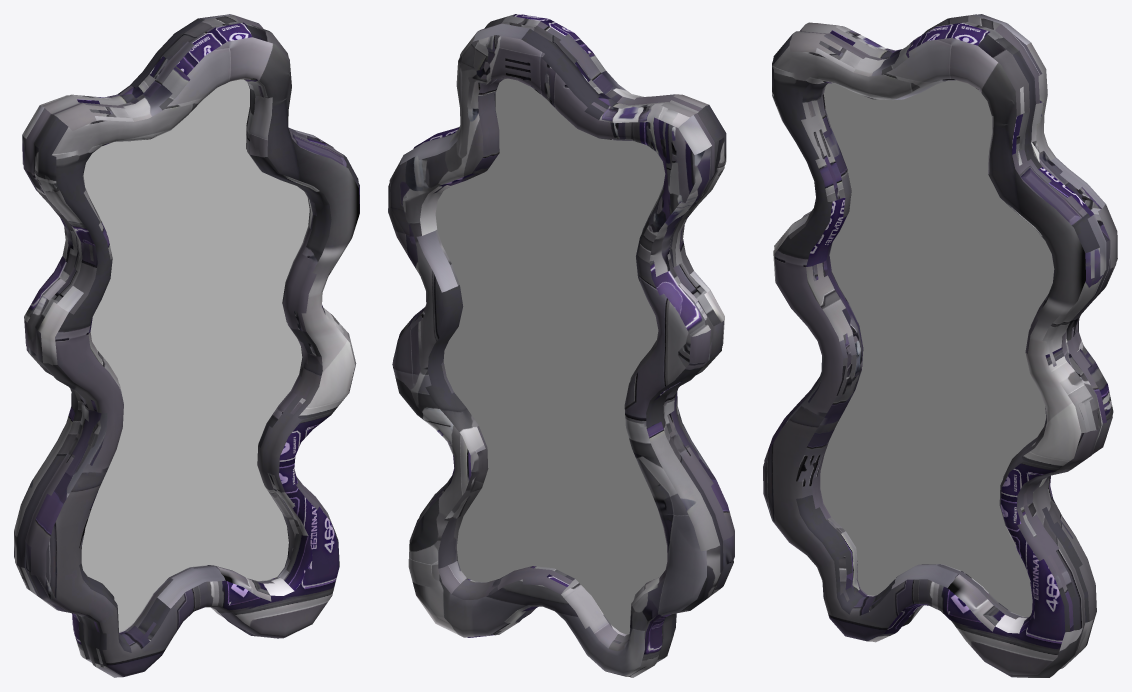
File: jingzi异形镜子模型.fbx
3 renders of one model, left to right at view 1: azimuth 30°, elevation 25°; view 2: azimuth 150°, elevation 25°; view 3: azimuth 330°, elevation 25°, orthographic. The views are drawn at different scales.
Visible parts, largest first — view 1: tripo_node_c7569f1a, 平面; view 2: 平面, tripo_node_c7569f1a; view 3: tripo_node_c7569f1a, 平面.
Part boxes in pixels (x1=…): tripo_node_c7569f1a: x1=14, y1=14, x2=359, y2=677; 平面: x1=81, y1=79, x2=309, y2=631; 平面: x1=435, y1=78, x2=667, y2=634; tripo_node_c7569f1a: x1=388, y1=14, x2=734, y2=677; tripo_node_c7569f1a: x1=763, y1=14, x2=1117, y2=677; 平面: x1=820, y1=80, x2=1067, y2=617.
Size of the model in its own units: 53.79 by 97.54 by 9.97.
